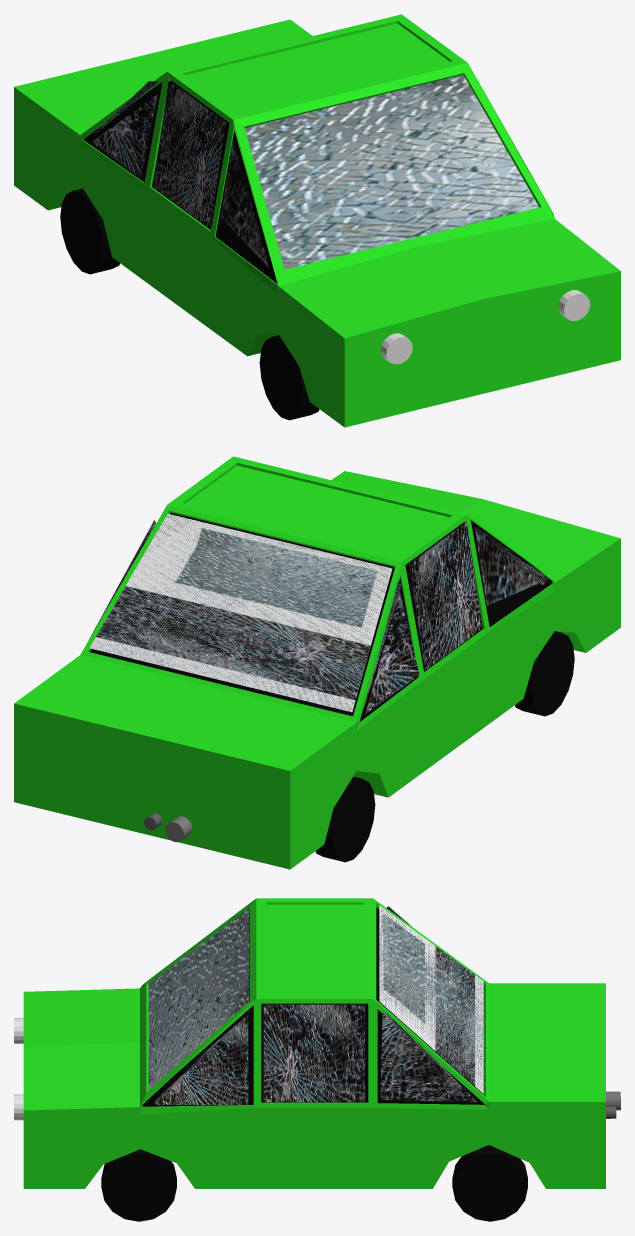
File: CarGreenStage2.fbx
3 renders of one model, top to bottom at view 1: azimuth 30°, elevation 25°; view 2: azimuth 150°, elevation 25°; view 3: azimuth 270°, elevation 25°, orthographic. The views are drawn at different scales.
Visible parts, largest first — view 1: Car, Achteruit kapot, wheels, Headlights; view 2: Car, Achteruit kapot, wheels; view 3: Car, Achteruit kapot, wheels, Headlights.
Boxes of the visible parts, x1=… form: Car: x1=14, y1=14, x2=620, y2=427; Achteruit kapot: x1=91, y1=75, x2=539, y2=269; wheels: x1=60, y1=188, x2=319, y2=420; Headlights: x1=381, y1=290, x2=590, y2=364; Car: x1=14, y1=456, x2=620, y2=869; Achteruit kapot: x1=89, y1=513, x2=548, y2=713; wheels: x1=315, y1=631, x2=574, y2=862; Car: x1=23, y1=898, x2=605, y2=1188; Achteruit kapot: x1=148, y1=905, x2=483, y2=1104; wheels: x1=101, y1=1145, x2=527, y2=1221; Headlights: x1=14, y1=1018, x2=23, y2=1120.
Size of the model in its own units: 502 by 415 by 1063.
